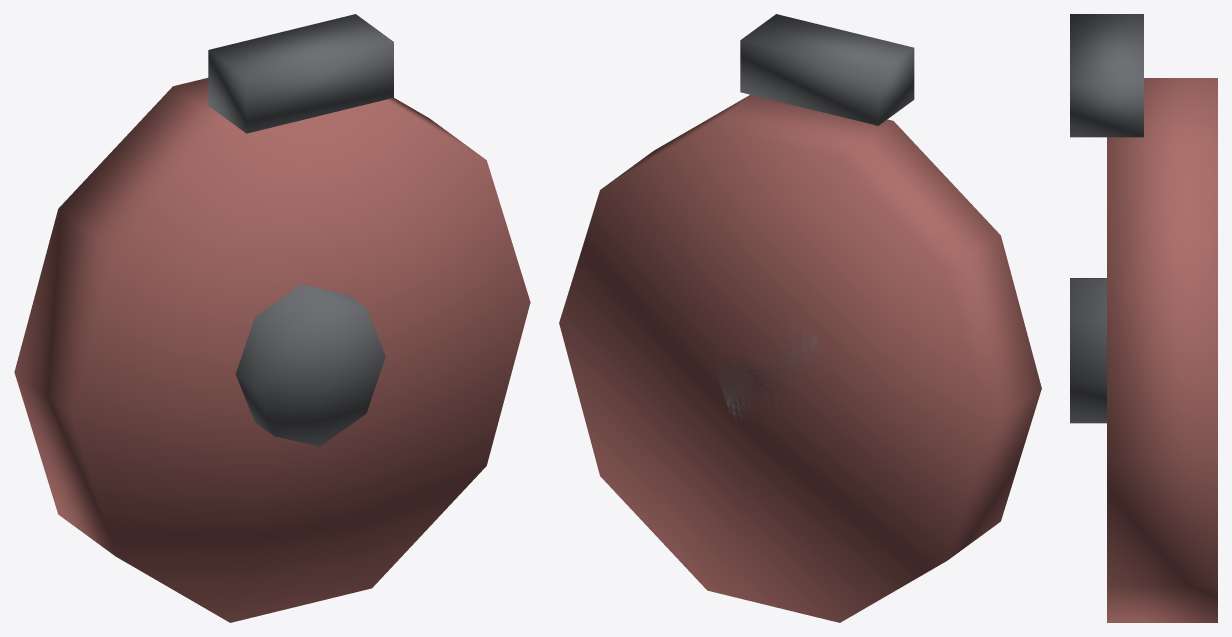
Rendered from hose_reel_06.glb.
3 renders of one model, left to right at view 1: azimuth 30°, elevation 25°; view 2: azimuth 150°, elevation 25°; view 3: azimuth 270°, elevation 25°, orthographic. The views are drawn at different scales.
Parts seen in each view (by area): view 1: world; view 2: world; view 3: world.
Boxes of the visible parts, bbox=[...] form: world: bbox=[14, 14, 530, 622]; world: bbox=[559, 14, 1041, 622]; world: bbox=[1070, 14, 1217, 622].
Size of the model in its own units: 0.5376 by 0.6267 by 0.1552.
